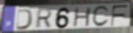6: (54, 7, 72, 30)
C: (91, 5, 110, 28)
D: (15, 9, 35, 31)
F: (111, 4, 130, 27)
H: (72, 6, 92, 28)
R: (35, 9, 54, 29)
